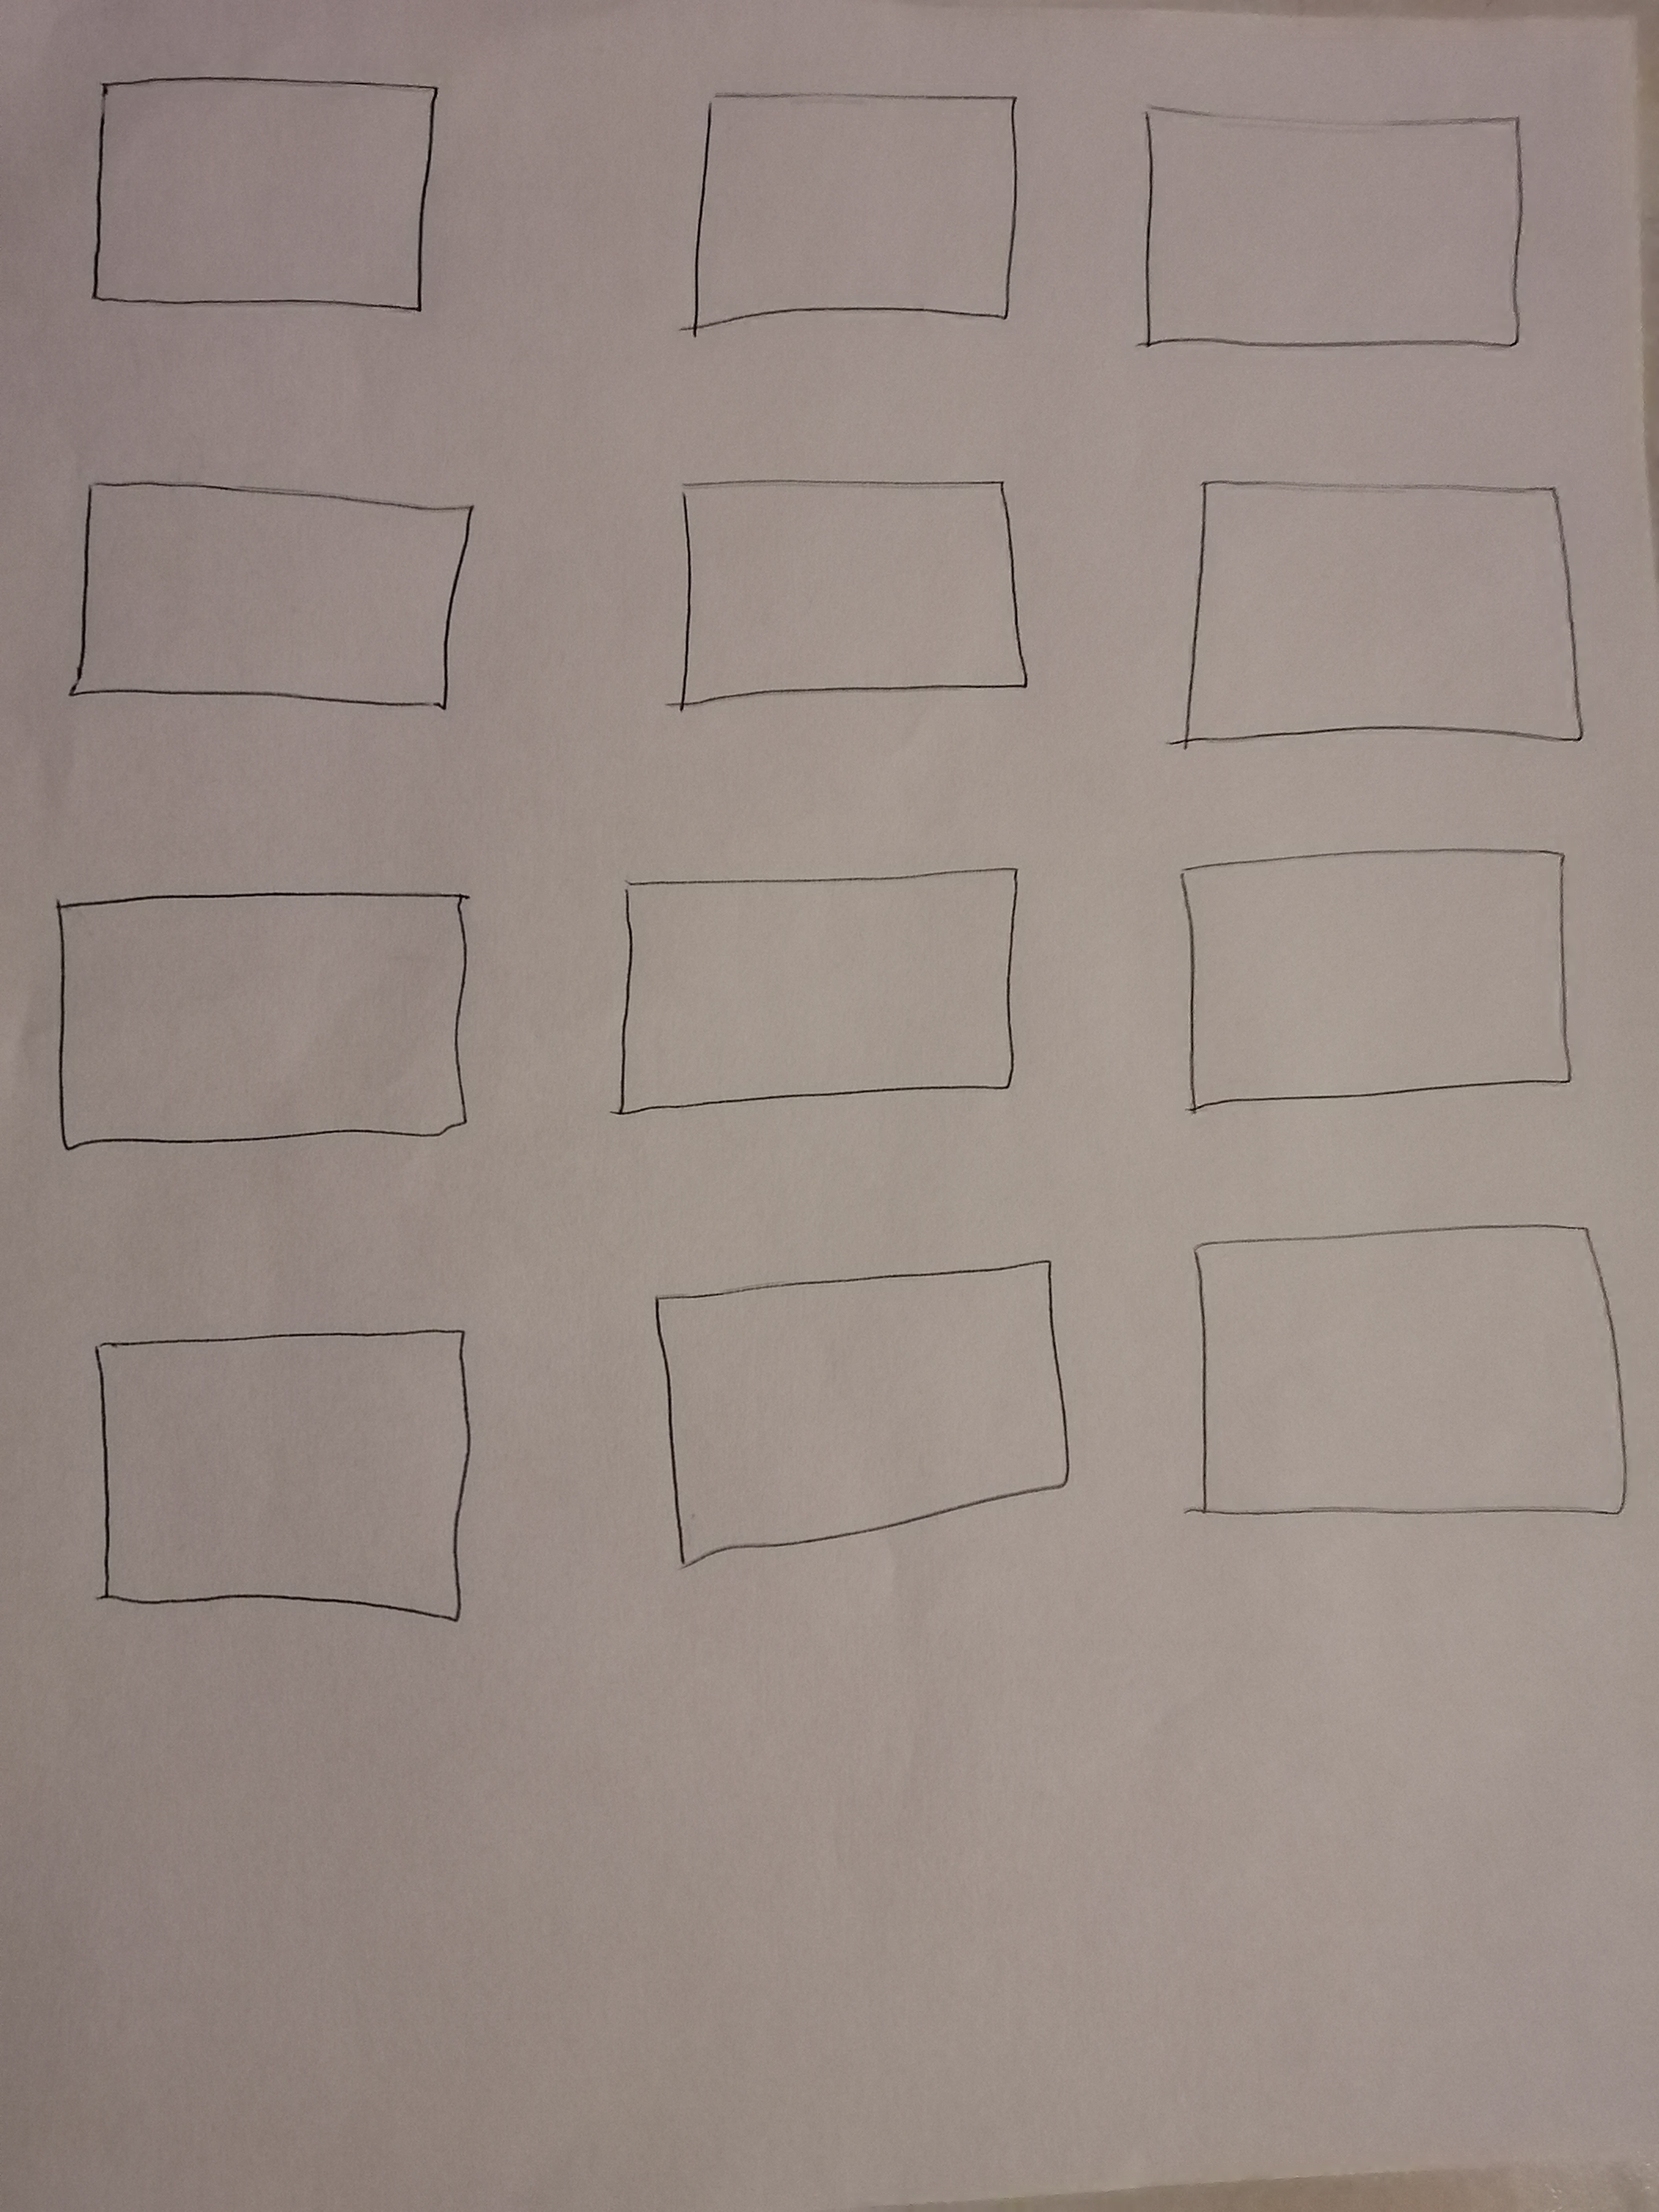process: (617, 1224, 1096, 1616), (42, 1291, 518, 1667), (1138, 437, 1631, 799), (1155, 1188, 1656, 1545), (24, 859, 525, 1177), (1107, 56, 1570, 381), (589, 845, 1070, 1141), (1152, 827, 1603, 1137), (45, 437, 495, 742), (56, 38, 471, 359), (645, 442, 1077, 749), (660, 35, 1060, 355)
